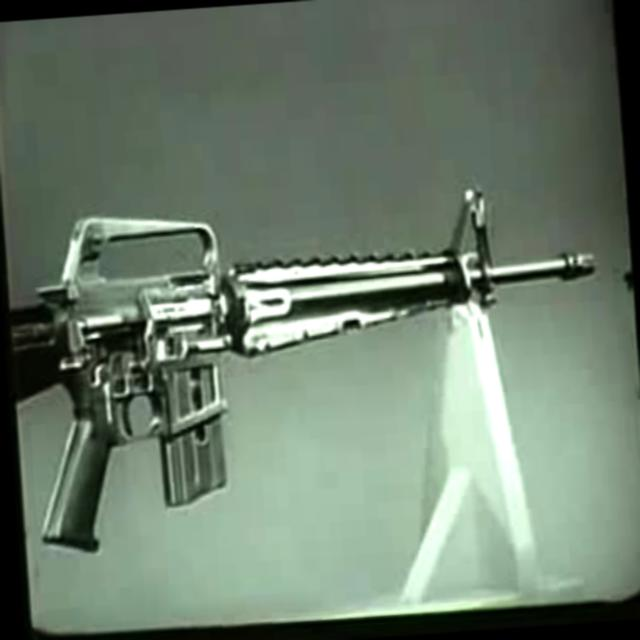m16: (5, 151, 640, 584)
